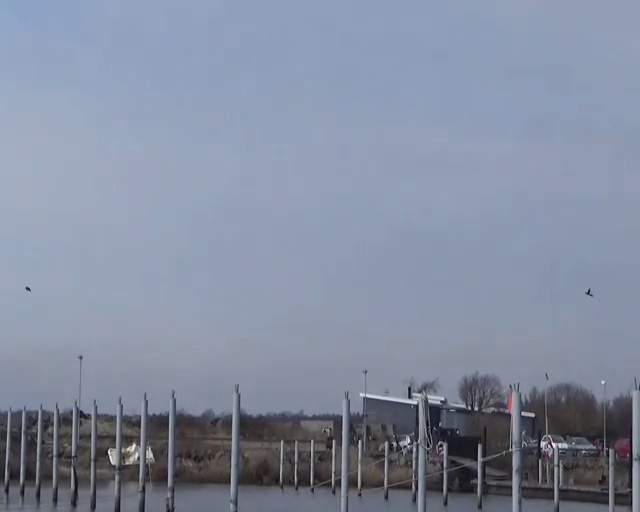BIRD: (586, 287, 594, 296)
